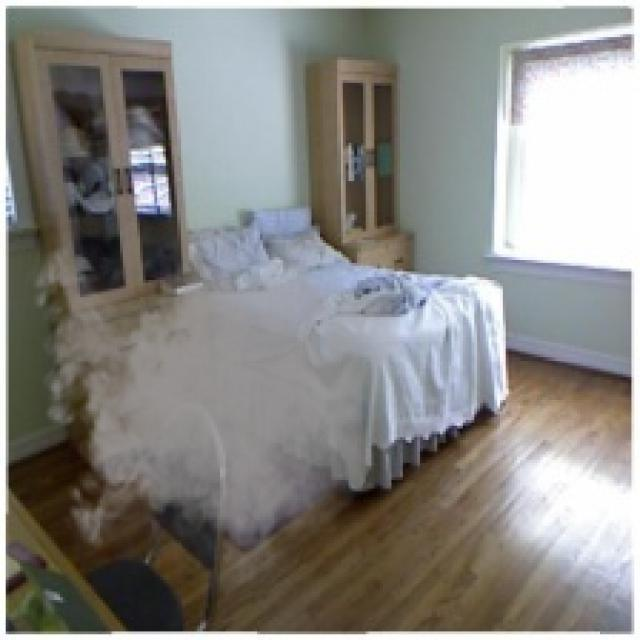Smoke: (22, 186, 408, 608)
